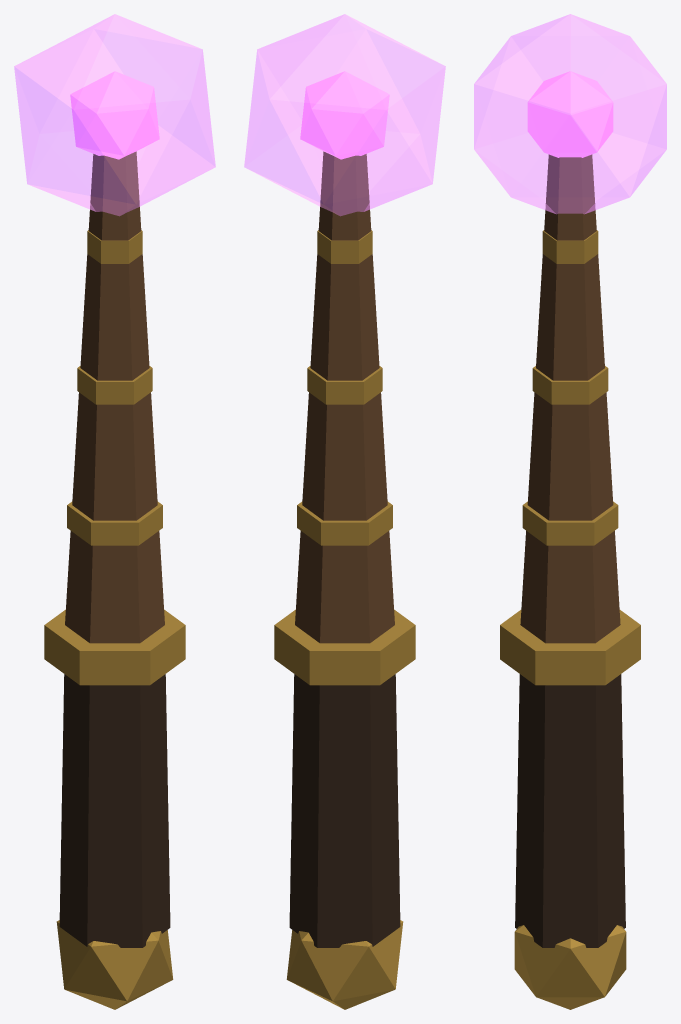
The model's file is wand.glb.
3 renders of one model, left to right at view 1: azimuth 30°, elevation 25°; view 2: azimuth 150°, elevation 25°; view 3: azimuth 270°, elevation 25°, orthographic.
Parts seen in each view (by area): view 1: TipGlow, Shaft.002, Handle, Collar, Pommel, TipCore, Ring_1, Ring_2, Ring_3; view 2: TipGlow, Shaft.002, Handle, Collar, Pommel, TipCore, Ring_1, Ring_2, Ring_3; view 3: Shaft.002, TipGlow, Handle, Collar, Pommel, TipCore, Ring_1, Ring_2, Ring_3.
Boxes of the visible parts, x1,y1,x2,y2 form: TipGlow: [14, 14, 215, 215]; Shaft.002: [65, 151, 164, 643]; Handle: [59, 674, 170, 947]; Collar: [44, 609, 185, 685]; Pommel: [56, 920, 173, 1009]; TipCore: [70, 71, 159, 159]; Ring_1: [67, 501, 162, 545]; Ring_2: [77, 366, 152, 404]; Ring_3: [87, 230, 142, 263]; TipGlow: [244, 14, 445, 215]; Shaft.002: [295, 151, 394, 643]; Handle: [289, 674, 400, 947]; Collar: [274, 609, 415, 685]; Pommel: [286, 920, 403, 1009]; TipCore: [300, 71, 389, 159]; Ring_1: [297, 501, 392, 545]; Ring_2: [307, 366, 382, 404]; Ring_3: [317, 230, 372, 263]; Shaft.002: [520, 154, 620, 643]; TipGlow: [474, 14, 666, 213]; Handle: [515, 674, 625, 947]; Collar: [500, 610, 640, 685]; Pommel: [514, 925, 626, 1009]; TipCore: [527, 71, 613, 157]; Ring_1: [522, 501, 618, 545]; Ring_2: [532, 366, 608, 404]; Ring_3: [542, 230, 598, 263].
Size of the model in its own units: 0.0805 by 0.436 by 0.0766.
